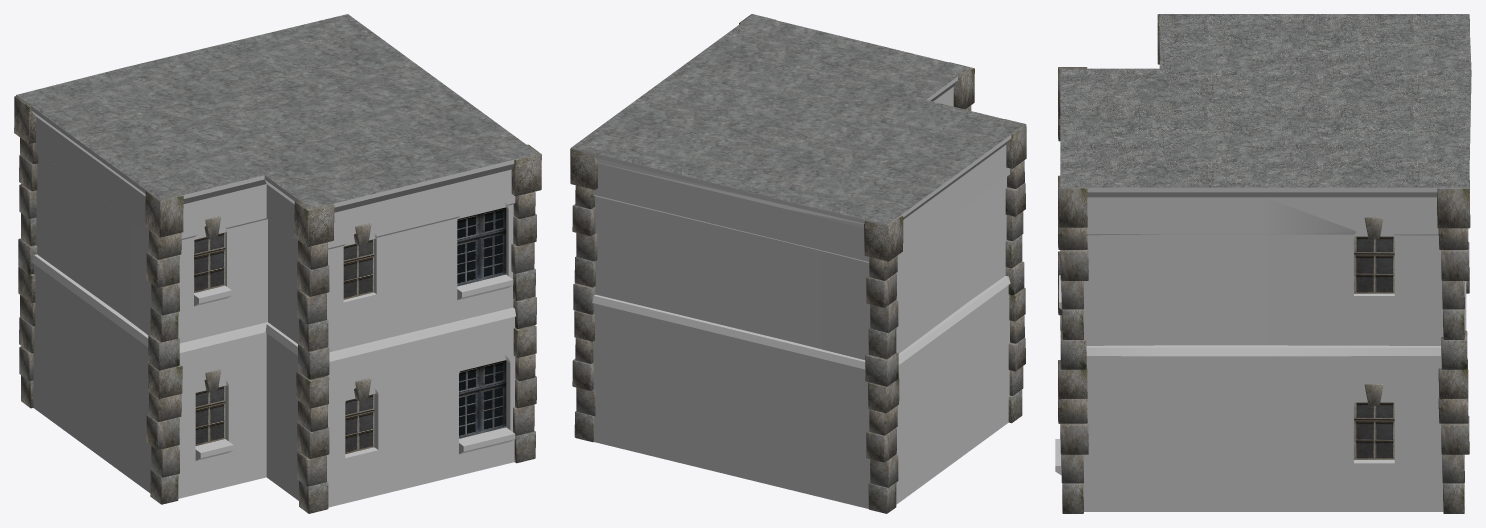
Rendered from Building_07.fbx.
3 renders of one model, left to right at view 1: azimuth 30°, elevation 25°; view 2: azimuth 150°, elevation 25°; view 3: azimuth 270°, elevation 25°, orthographic. The views are drawn at different scales.
Visible parts, largest first — view 1: Building_07; view 2: Building_07; view 3: Building_07.
Part boxes in pixels (x1,y1,x2,y2): Building_07: (14,14,541,513); Building_07: (570,14,1026,513); Building_07: (1055,14,1471,513).
Bounding box in the file's own units: 524 × 454 × 523.
